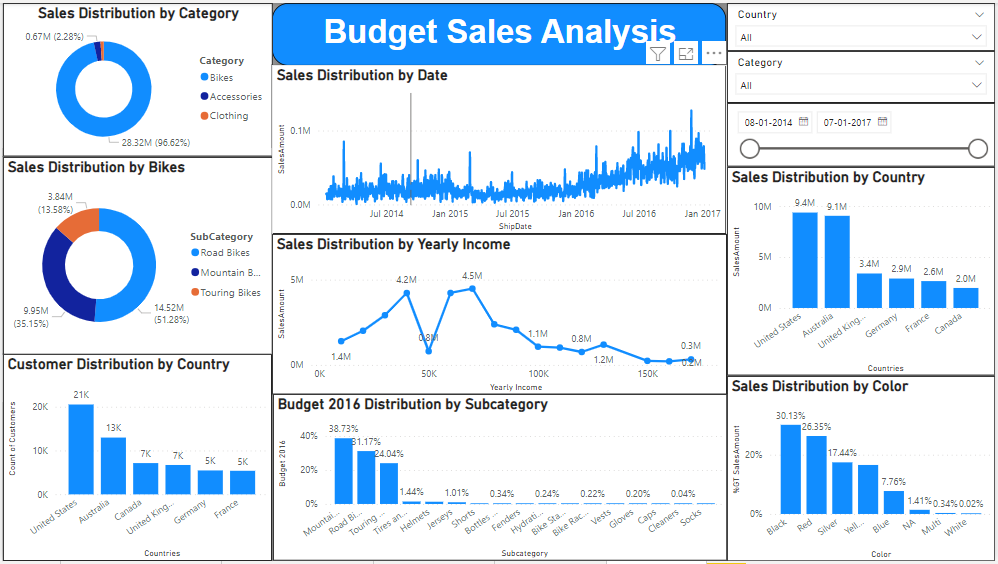

What the dashboard file says about the page in this screenshot:
{"tool":"powerbi","page":{"name":"Dashboard","canvas":[1280,720],"ordinal":5},"visuals":[{"type":"clusteredColumnChart","title":"Customer Distribution by Country","fields":{"Y":["CountNonNull(Sales.CustomerKey)"],"Category":["Territories.Country"]},"box":[0,452.9,347.4,267.3],"z":0},{"type":"textbox","box":[347.7,0,586.2,80.6],"z":1000},{"type":"clusteredColumnChart","title":"Sales Distribution by Country","fields":{"Category":["Territories.Country"],"Y":["Sum(Sales.SalesAmount)"]},"box":[934,211.7,346,268.8],"z":2000},{"type":"clusteredColumnChart","title":"Sales Distribution by Color","fields":{"Y":["Sum(Sales.SalesAmount)"],"Category":["Product.Color"]},"box":[934,481.1,346,239.1],"z":3000},{"type":"donutChart","title":"Sales Distribution by Category","fields":{"Category":["Product.Category"],"Y":["Sum(Sales.SalesAmount)"]},"box":[0,0,347.7,198.2],"z":4000},{"type":"donutChart","title":"Sales Distribution by Bikes","fields":{"Category":["Product.SubCategory"],"Y":["Sum(Sales.SalesAmount)"]},"box":[0,198.2,347.7,255.3],"z":5000},{"type":"lineChart","title":"Sales Distribution by Date","fields":{"Y":["Sum(Sales.SalesAmount)"],"Category":["Sales.ShipDate"]},"box":[347.7,80.6,586.2,218.4],"z":6000},{"type":"slicer","fields":{"Values":["Territories.Country"]},"box":[934,0,346,62.2],"z":7000},{"type":"slicer","fields":{"Values":["Product.Category"]},"box":[934,62.2,346,67.2],"z":8000},{"type":"lineChart","title":"Sales Distribution by Yearly Income","fields":{"Category":["Customer.YearlyIncome"],"Y":["Sum(Sales.SalesAmount)"]},"box":[347.4,298.2,586.5,206.8],"z":9000},{"type":"slicer","fields":{"Values":["Sales.ShipDate"]},"box":[934,129.3,346,82.3],"z":10000},{"type":"clusteredColumnChart","title":"Budget 2016 Distribution by Subcategory","fields":{"Y":["Sum(ProductBudget2016.Grand Total)"],"Category":["ProductBudget2016.Subcategory"]},"box":[348.2,505.1,586.3,214.7],"z":11000}]}

Visuals, with their boxes in screenshot pixels (x1, y1, x2, y2), scaled from the page's 1280x720 canvas onto the 998x564 screenshot:
"Customer Distribution by Country" clusteredColumnChart: 0:355:271:563
textbox: 271:0:728:63
"Sales Distribution by Country" clusteredColumnChart: 728:166:997:376
"Sales Distribution by Color" clusteredColumnChart: 728:377:997:563
"Sales Distribution by Category" donutChart: 0:0:271:155
"Sales Distribution by Bikes" donutChart: 0:155:271:355
"Sales Distribution by Date" lineChart: 271:63:728:234
slicer - Territories.Country: 728:0:997:49
slicer - Product.Category: 728:49:997:101
"Sales Distribution by Yearly Income" lineChart: 271:234:728:396
slicer - Sales.ShipDate: 728:101:997:166
"Budget 2016 Distribution by Subcategory" clusteredColumnChart: 271:396:729:563
